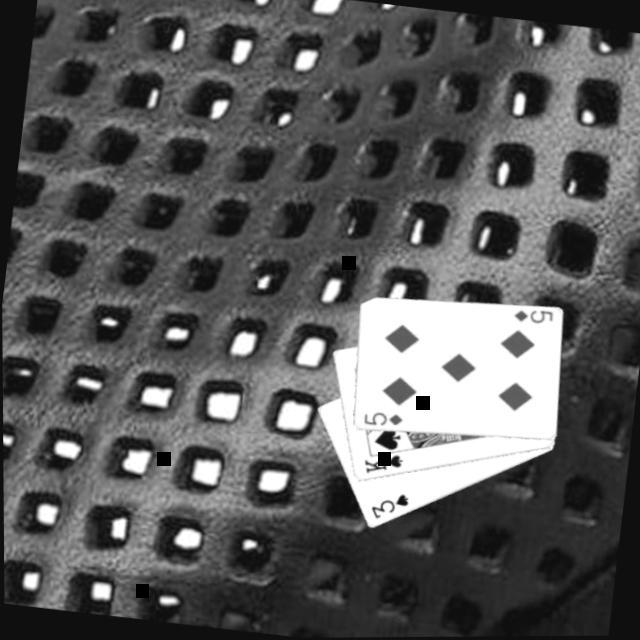3S: (364, 488, 410, 526)
5D: (358, 408, 403, 433), (508, 306, 554, 330)
KS: (358, 448, 403, 482)
